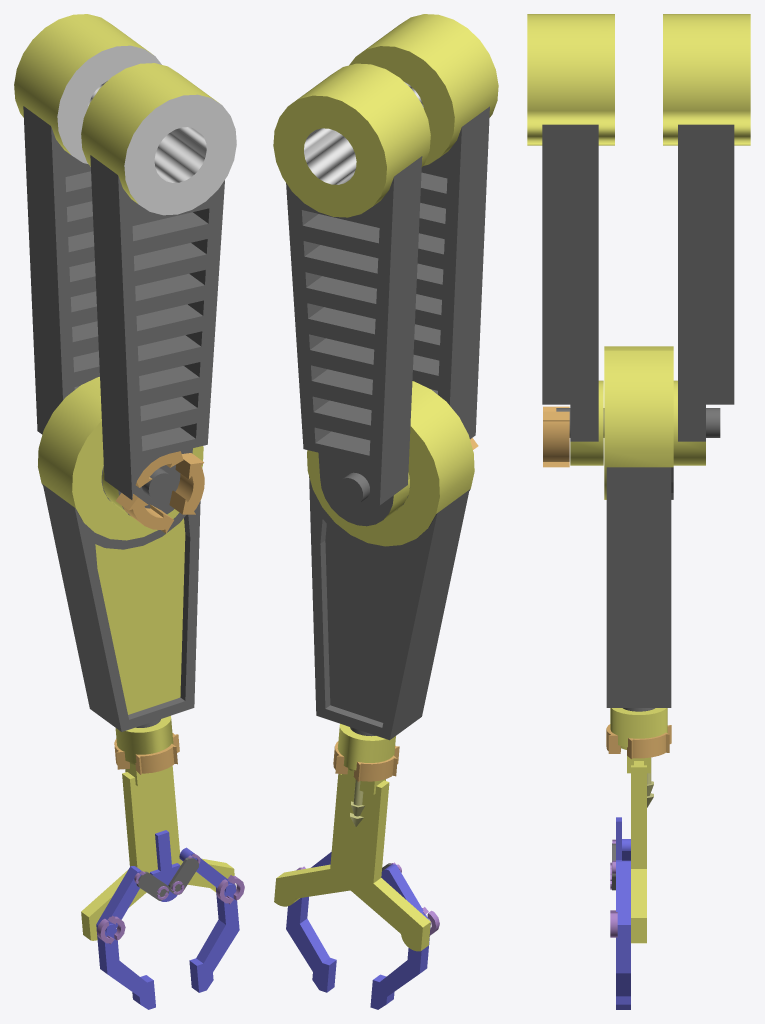
Rendered from robotic_arm.fbx.
3 views of the same model, side by side, from view 1: azimuth 30°, elevation 25°; view 2: azimuth 150°, elevation 25°; view 3: azimuth 270°, elevation 25° (orthographic).
Visible parts, largest first — view 1: Robotic_Arm:polySurface1; view 2: Robotic_Arm:polySurface1; view 3: Robotic_Arm:polySurface1.
Part boxes in pixels (bbox=[...]): Robotic_Arm:polySurface1: bbox=[14, 14, 244, 1009]; Robotic_Arm:polySurface1: bbox=[273, 14, 498, 1009]; Robotic_Arm:polySurface1: bbox=[527, 14, 750, 1009].
Size of the model in its own units: 12.65 by 64.72 by 13.64.
